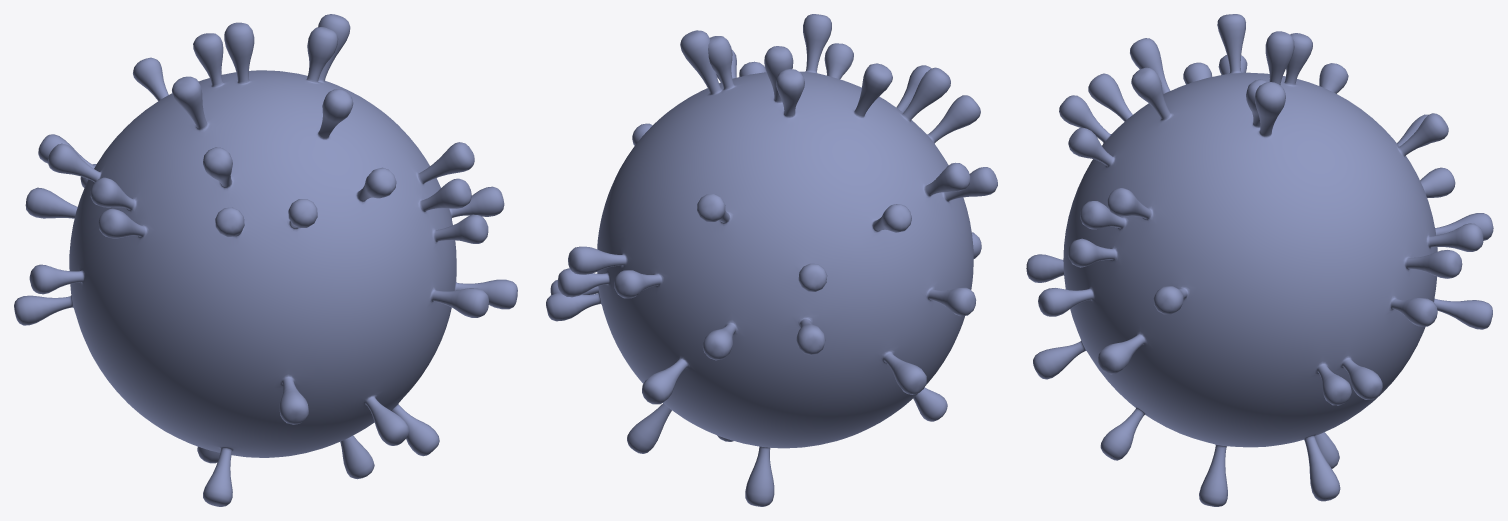
File: cvirus_m1s.fbx
3 renders of one model, left to right at view 1: azimuth 30°, elevation 25°; view 2: azimuth 150°, elevation 25°; view 3: azimuth 270°, elevation 25°, orthographic. The views are drawn at different scales.
Parts seen in each view (by area): view 1: body; view 2: body; view 3: body.
Part boxes in pixels (<box>): body: <box>14,14,517,506</box>; body: <box>546,14,997,506</box>; body: <box>1026,14,1493,506</box>.
Size of the model in its own units: 243 by 256 by 248.
